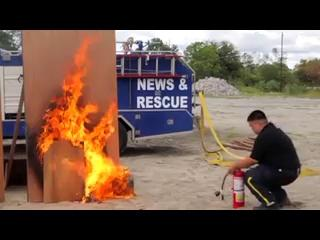Fire: (24, 46, 136, 203)
